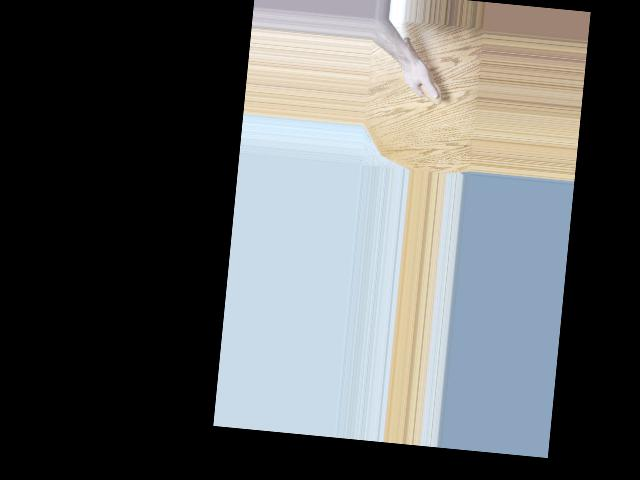sweet_potato: (398, 35, 448, 106)
